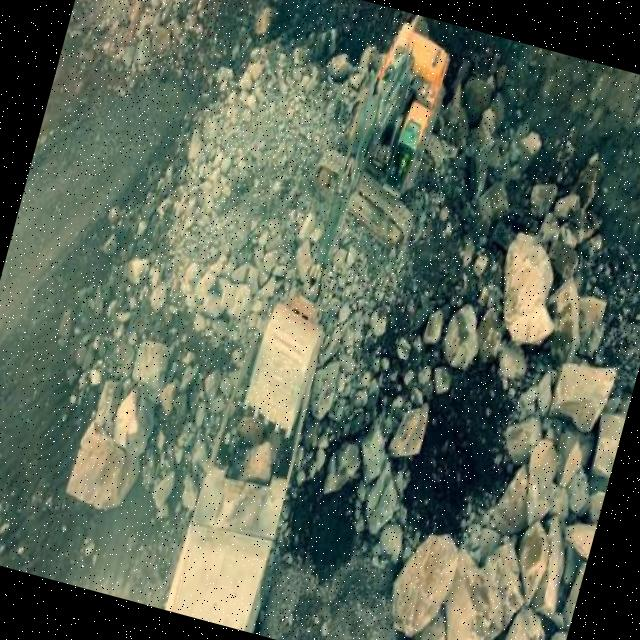Dump Truck: (163, 326, 330, 634)
Excavator: (236, 0, 478, 458)
